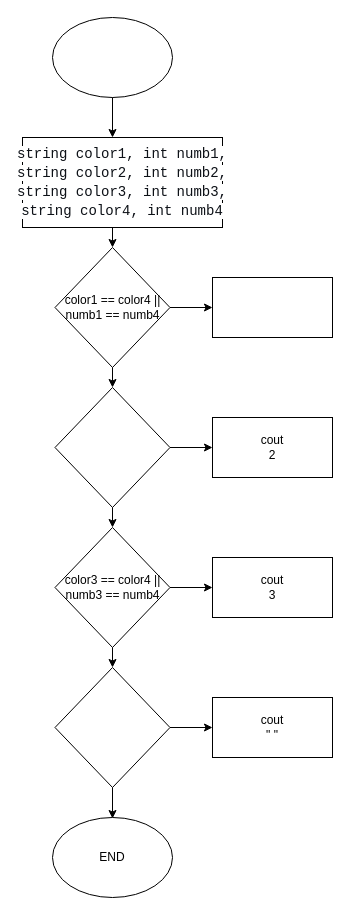
Some shapes in this 350 by 915 pixel diagram are drawn without their labels. The centre of each missing label's shape, as x and y in pixels:
"color2 == color4 || numb2 == numb4" goes at pixel 112 447.
"cout 1" goes at pixel 272 307.
"Else" goes at pixel 112 727.
"START" goes at pixel 112 57.
